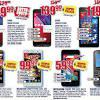Smartphone: (79, 5, 99, 46), (33, 8, 50, 49), (61, 50, 81, 84), (24, 49, 41, 87), (93, 50, 100, 86), (0, 48, 4, 86)
